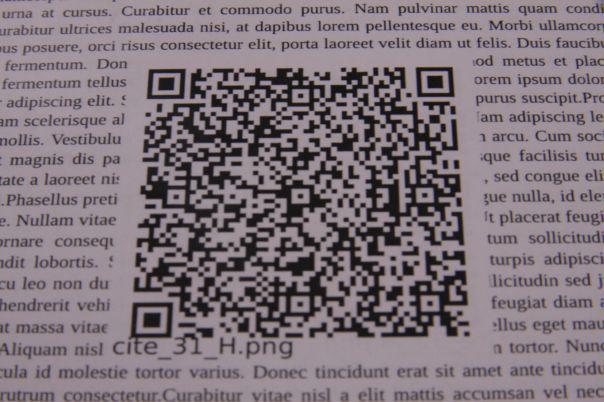Finder pattern: (126, 297, 182, 342), (411, 62, 459, 102), (143, 65, 190, 101)
